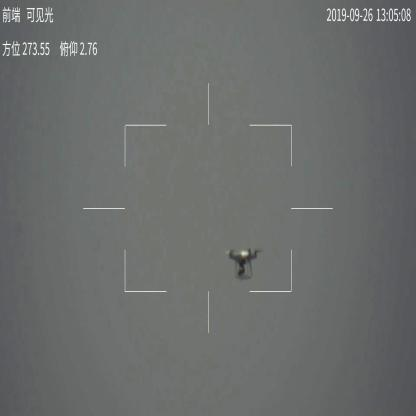uav: (223, 246, 265, 280)
